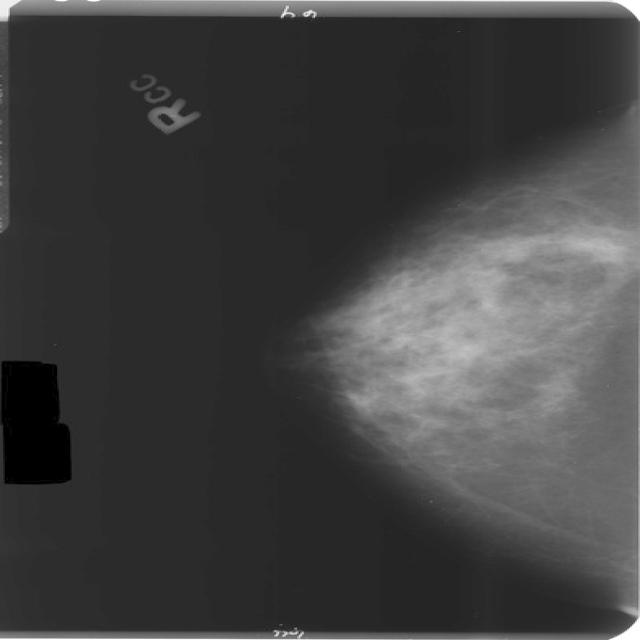tumour: (565, 234, 630, 264)
